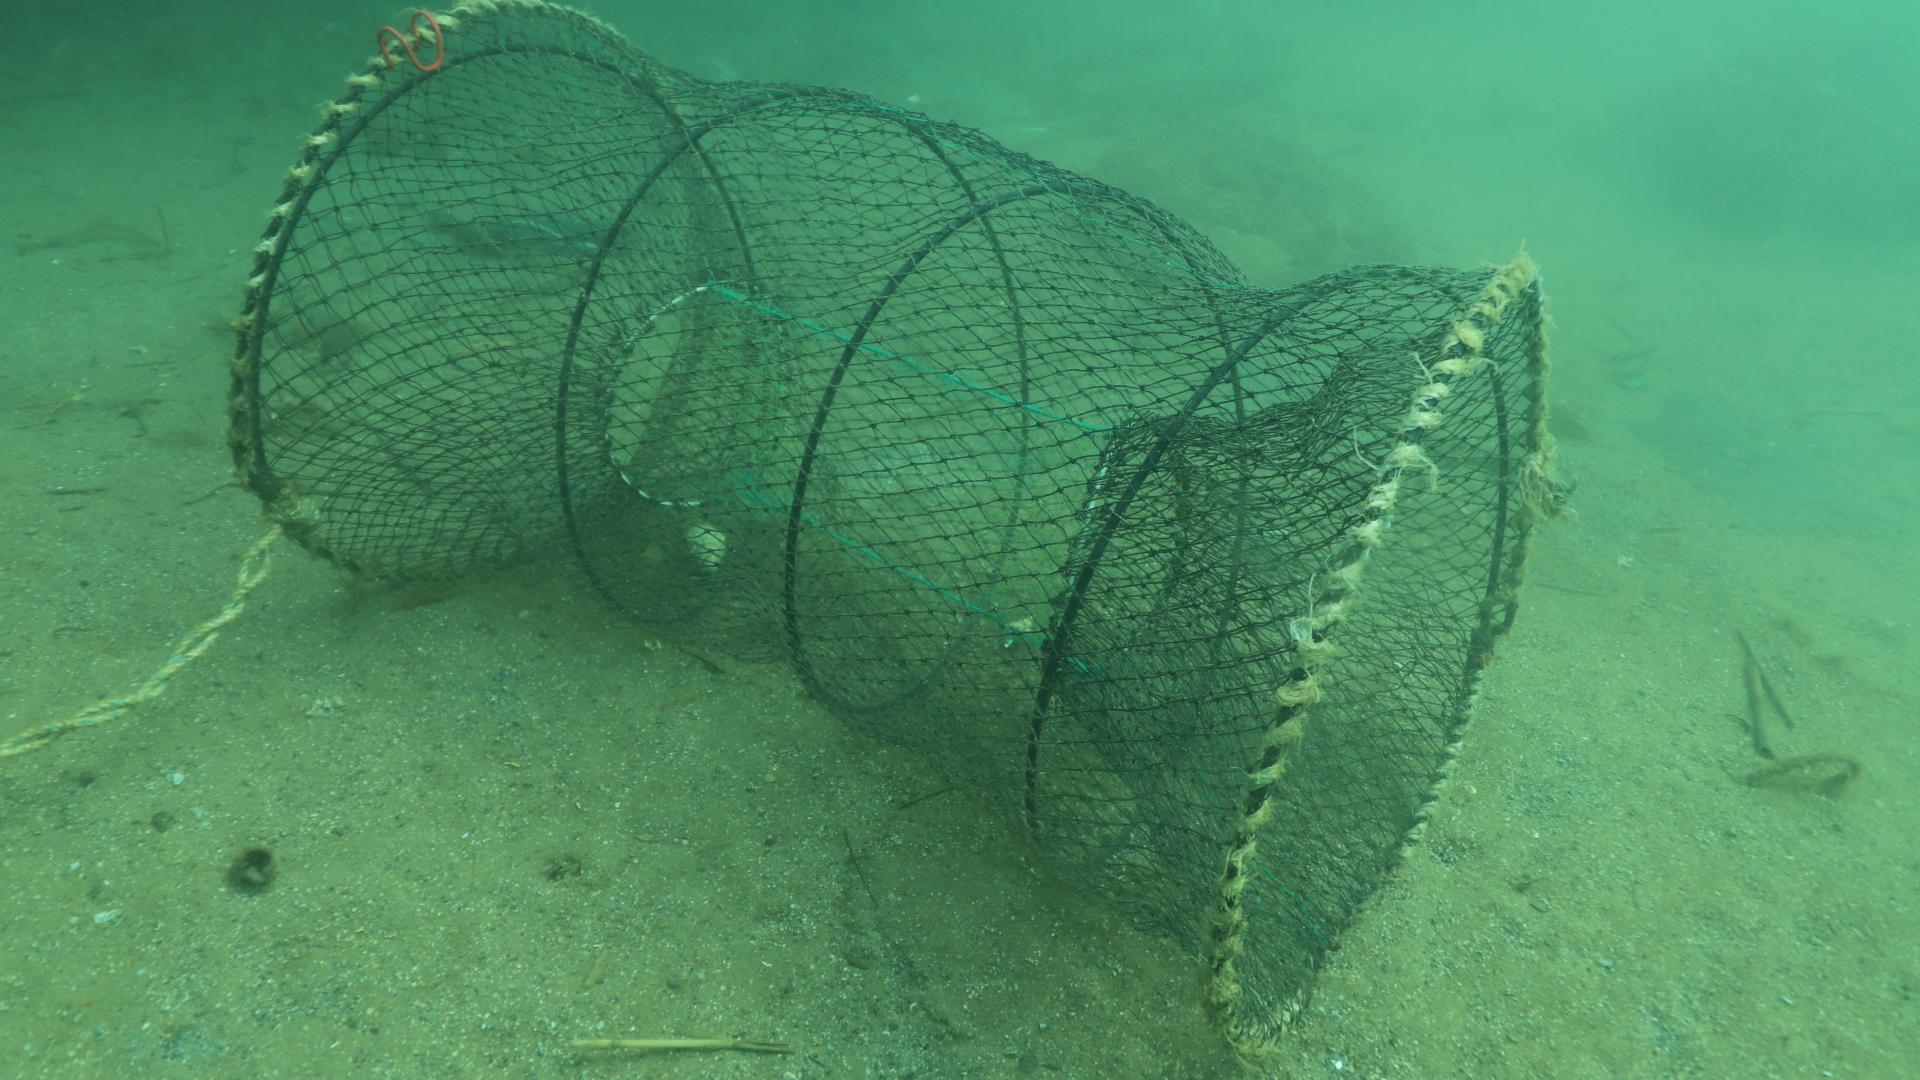bundle of ropes: (0, 539, 284, 756)
spring fish trap: (222, 0, 1582, 1068)
